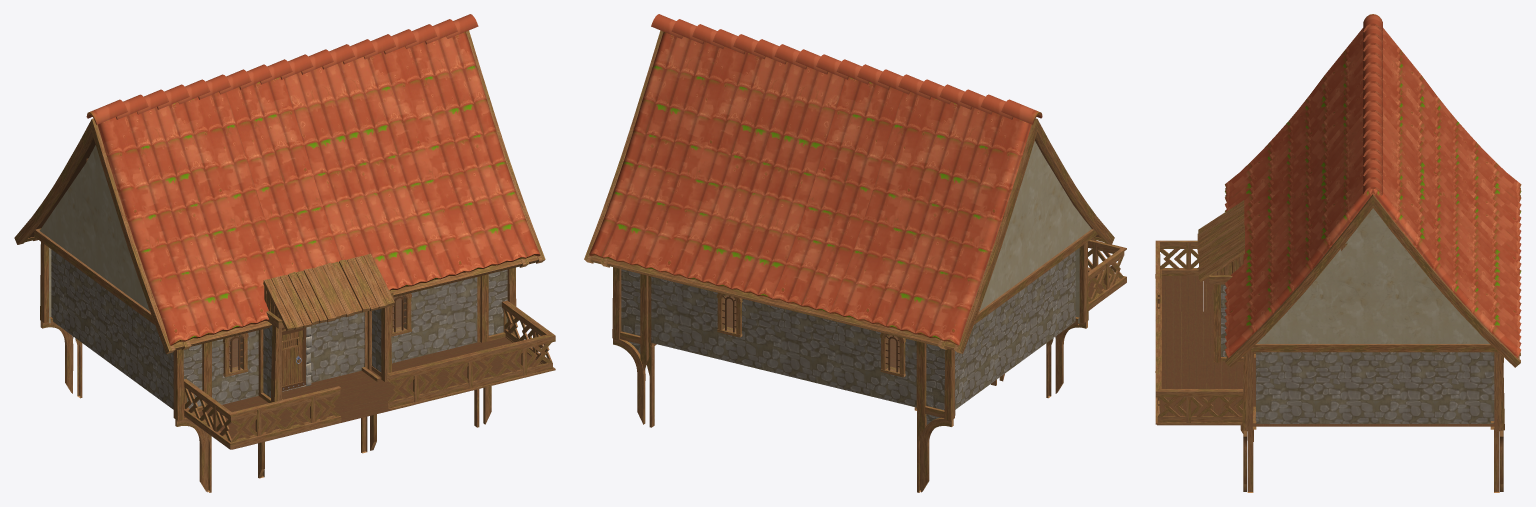
File: Building4Animation_Modular.glb
The picture shows the model from 3 angles, left to right: view 1: azimuth 30°, elevation 25°; view 2: azimuth 150°, elevation 25°; view 3: azimuth 270°, elevation 25°; orthographic projection. The views are drawn at different scales.
Parts seen in each view (by area): view 1: BA_Roof_01, BA_Wall_03, BA_Trim_02, BA_Trim_03, BA_Floor_01, BA_Wall_06, BA_Wall_02; view 2: BA_Roof_01, BA_Wall_03, BA_Trim_02, BA_Trim_03, BA_Wall_06, BA_Floor_01; view 3: BA_Roof_01, BA_Wall_03, BA_Wall_06, BA_Trim_03, BA_Floor_01, BA_Trim_02.
Boxes of the visible parts, x1,y1,x2,y2 form: BA_Roof_01: (86, 14, 540, 345); BA_Wall_03: (51, 249, 507, 409); BA_Trim_02: (40, 242, 555, 492); BA_Trim_03: (14, 30, 545, 353); BA_Floor_01: (49, 295, 555, 449); BA_Wall_06: (39, 145, 149, 311); BA_Wall_02: (282, 327, 306, 391); BA_Roof_01: (589, 14, 1042, 345); BA_Wall_03: (621, 251, 1075, 425); BA_Trim_02: (612, 240, 1126, 492); BA_Trim_03: (584, 30, 1114, 353); BA_Wall_06: (979, 141, 1091, 311); BA_Floor_01: (620, 260, 1126, 418); BA_Roof_01: (1225, 14, 1521, 357); BA_Wall_03: (1221, 284, 1494, 423); BA_Wall_06: (1257, 208, 1489, 343); BA_Trim_03: (1197, 187, 1520, 367); BA_Floor_01: (1155, 259, 1496, 429); BA_Trim_02: (1155, 240, 1504, 492).
Bounding box in the file's own units: 14.13 × 12.34 × 12.27.
Materials: 7 (6 with a texture image).
